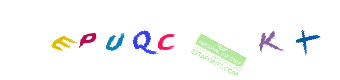7: (168, 0, 248, 80)
C: (166, 0, 246, 80)
E: (21, 0, 101, 80)
K: (170, 0, 250, 80)
P: (86, 0, 166, 80)
Q: (128, 0, 208, 80)
U: (103, 0, 183, 80)
X: (191, 0, 271, 80)
